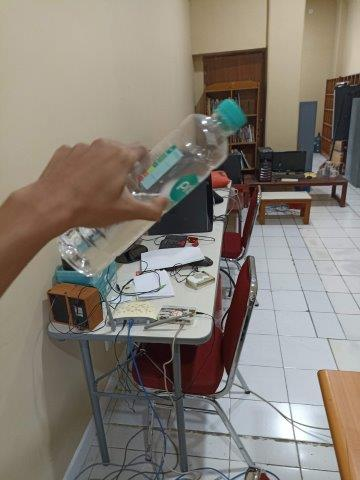botolplastik: (58, 98, 247, 277)
